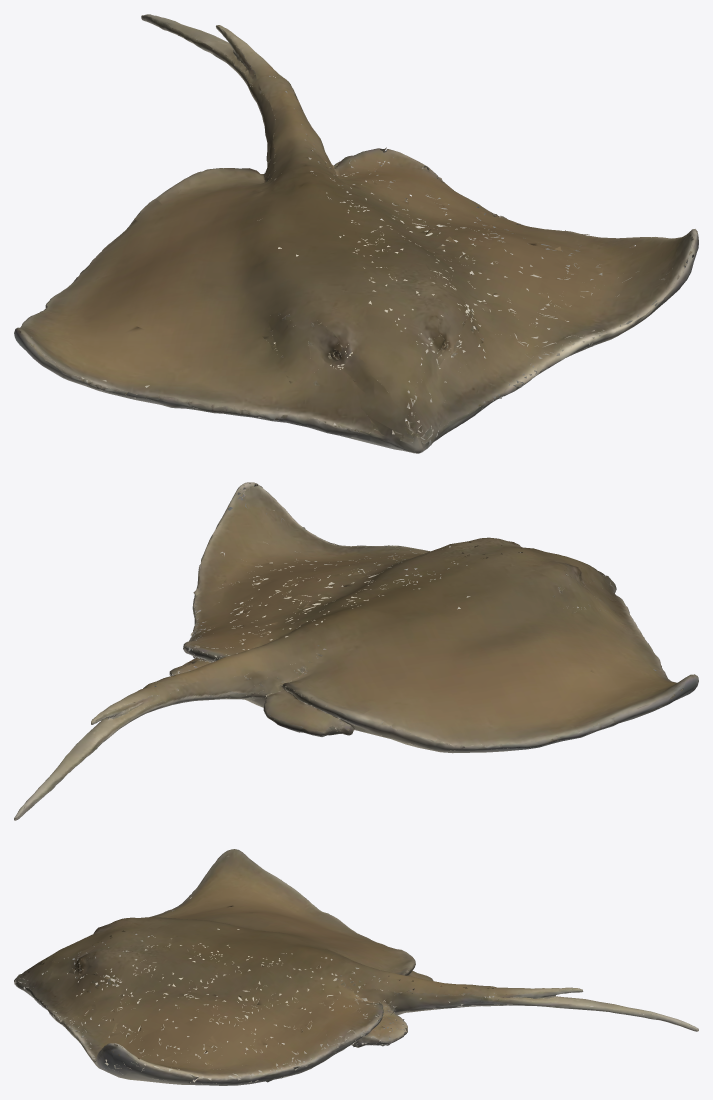
The model's file is stingray.glb.
The picture shows the model from 3 angles, top to bottom: view 1: azimuth 30°, elevation 25°; view 2: azimuth 150°, elevation 25°; view 3: azimuth 270°, elevation 25°; orthographic projection. The views are drawn at different scales.
Visible parts, largest first — view 1: Object_2, Object_3; view 2: Object_2, Object_3; view 3: Object_2, Object_3.
Boxes of the visible parts, left/top/right/bottom form: Object_2: left=14, top=14, right=698, bottom=453; Object_3: left=258, top=76, right=687, bottom=450; Object_2: left=14, top=482, right=698, bottom=820; Object_3: left=155, top=504, right=603, bottom=695; Object_2: left=14, top=849, right=698, bottom=1085; Object_3: left=15, top=937, right=491, bottom=1085.
Size of the model in its own units: 57.28 by 11.8 by 79.17.
1 material, 1 textured.
